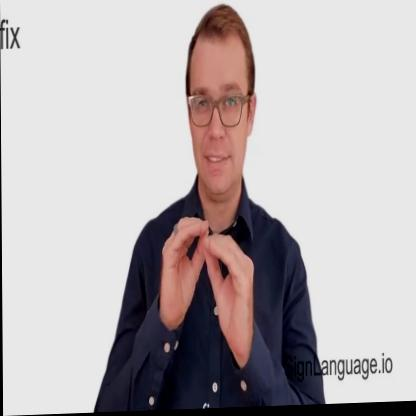Fix: (160, 205, 261, 378)
